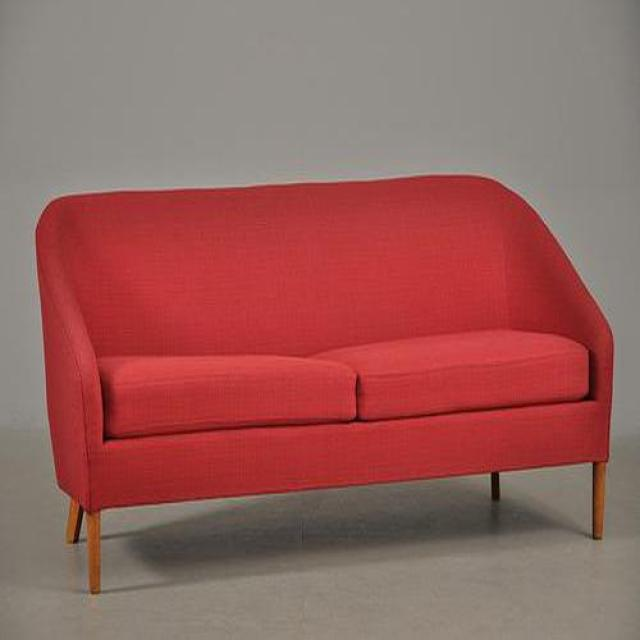sofa: (33, 175, 616, 598)
